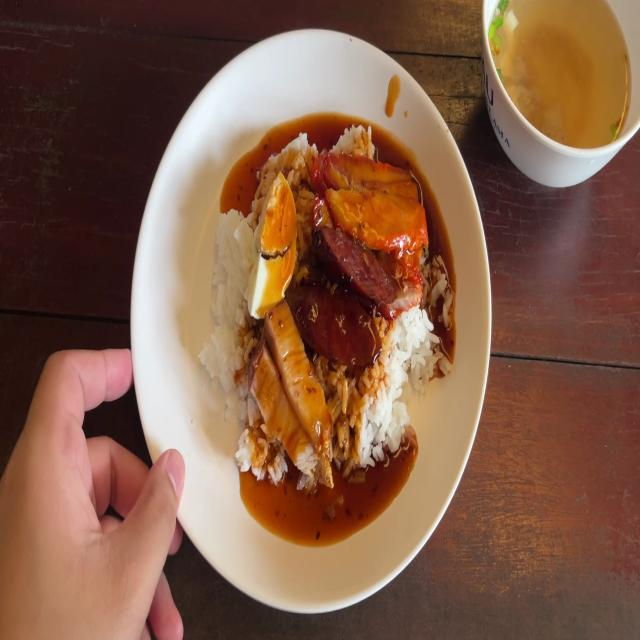01boiled_egg: (251, 176, 290, 310)
01chainese_sausage: (300, 223, 392, 358), (303, 281, 380, 367), (329, 225, 394, 312)
01crispy_pork: (254, 306, 327, 479), (275, 305, 325, 438), (256, 364, 317, 472)
01red_pork: (318, 145, 430, 258), (328, 187, 431, 248), (313, 152, 427, 190)
01red_pork_and_crispy_pork: (197, 124, 450, 484)
01rice: (205, 170, 257, 418), (345, 320, 435, 453), (232, 421, 278, 482)
